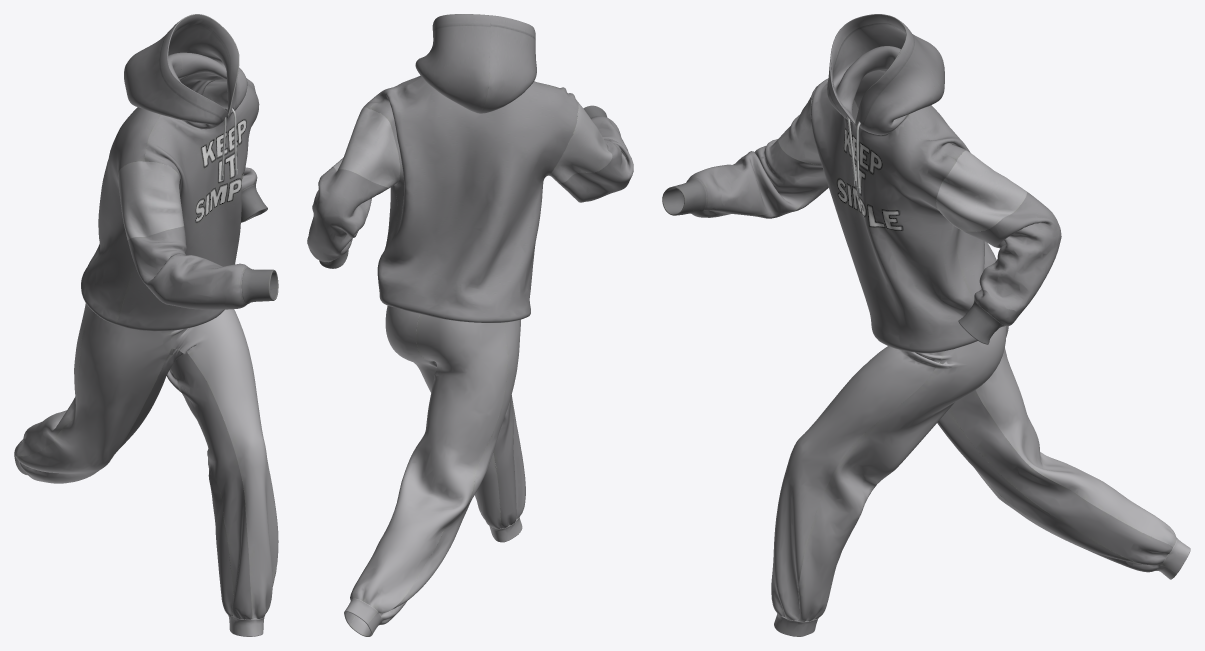
The picture shows the model from 3 angles, left to right: view 1: azimuth 30°, elevation 25°; view 2: azimuth 150°, elevation 25°; view 3: azimuth 270°, elevation 25°; orthographic projection. The views are drawn at different scales.
Parts seen in each view (by area): view 1: Object_4, Object_10, Object_13, Object_5, Object_16, Object_7, Object_17, Object_6; view 2: Object_4, Object_10, Object_16, Object_13; view 3: Object_4, Object_10, Object_13, Object_16, Object_5, Object_7.
Boxes of the visible parts, box(x1,y1,x2,y2) form: Object_4: box(81, 20, 259, 331); Object_10: box(14, 303, 278, 636); Object_13: box(117, 348, 252, 619); Object_5: box(168, 15, 238, 113); Object_16: box(118, 161, 184, 239); Object_7: box(241, 184, 277, 303); Object_17: box(202, 79, 227, 109); Object_6: box(121, 14, 246, 308); Object_4: box(307, 14, 633, 322); Object_10: box(345, 306, 522, 634); Object_16: box(333, 99, 612, 187); Object_13: box(350, 395, 525, 599); Object_4: box(686, 21, 1061, 353); Object_10: box(771, 326, 1190, 636); Object_13: box(937, 390, 1172, 572); Object_16: box(778, 95, 1026, 231); Object_5: box(683, 15, 905, 199); Object_7: box(663, 178, 1003, 343).
Bounding box in the file's own units: 60.77 × 153 × 121.
Materials: 2 (2 with a texture image).
